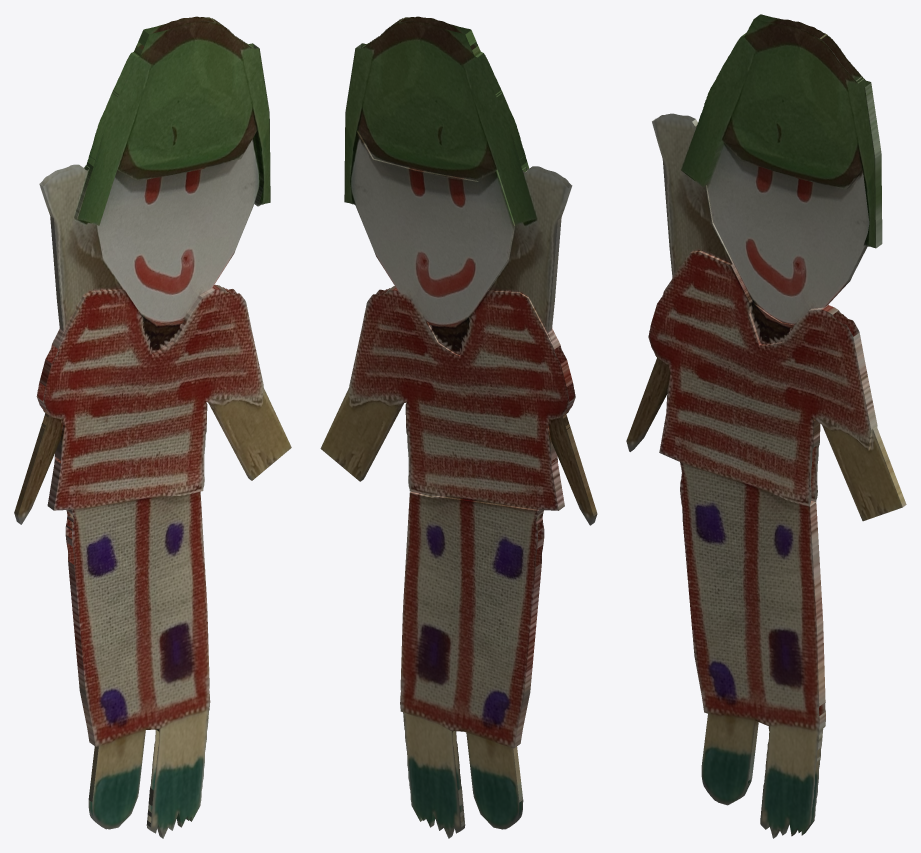
The model's file is personaje6.fbx.
The picture shows the model from 3 angles, left to right: view 1: azimuth 30°, elevation 25°; view 2: azimuth 150°, elevation 25°; view 3: azimuth 330°, elevation 25°; orthographic projection.
Parts seen in each view (by area): view 1: Plane; view 2: Plane; view 3: Plane.
Boxes of the visible parts, x1=… form: Plane: x1=14, y1=16, x2=291, y2=838; Plane: x1=320, y1=16, x2=597, y2=838; Plane: x1=626, y1=14, x2=906, y2=838.
Bounding box in the file's own units: 127 × 360 × 6.85.
Materials: 1 (1 with a texture image).
